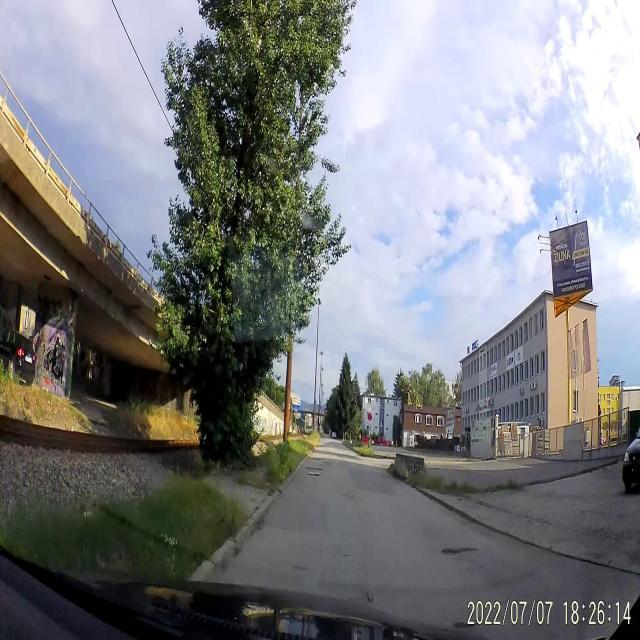Pothole: (438, 541, 473, 561), (302, 464, 324, 478), (361, 588, 378, 600)
